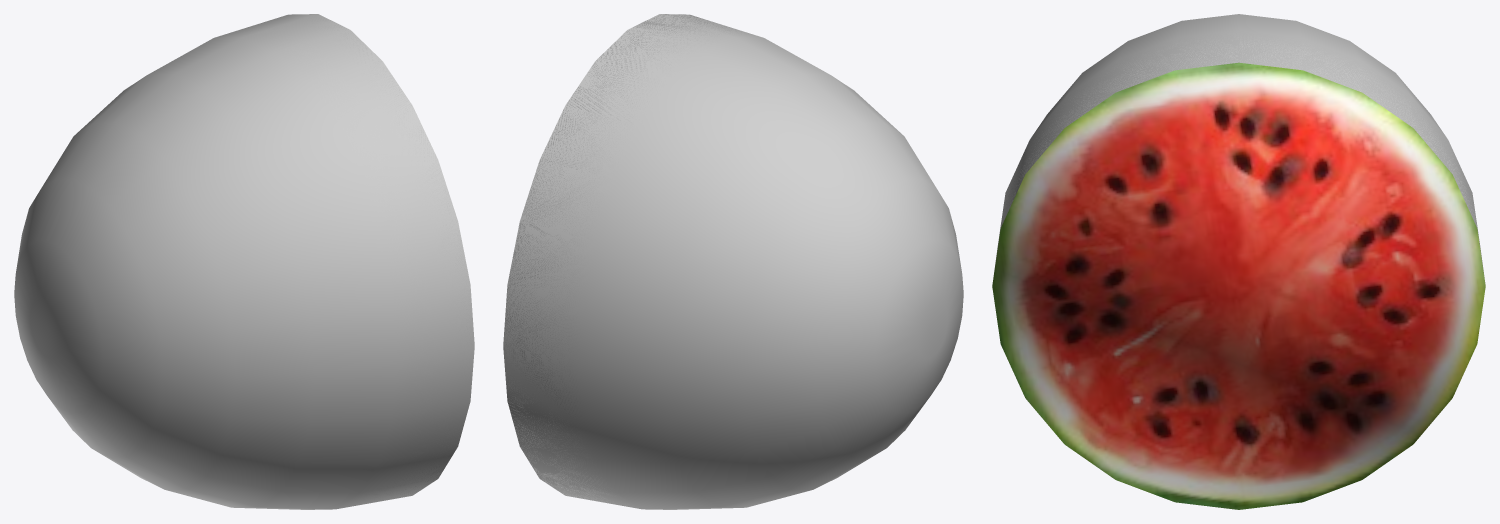
Rendered from MelonCut.fbx.
3 views of the same model, side by side, from view 1: azimuth 30°, elevation 25°; view 2: azimuth 150°, elevation 25°; view 3: azimuth 270°, elevation 25° (orthographic).
Parts seen in each view (by area): view 1: group_0; view 2: group_0; view 3: group_0.
Part boxes in pixels (bbox=[...]): group_0: bbox=[14, 14, 474, 509]; group_0: bbox=[503, 14, 963, 509]; group_0: bbox=[992, 14, 1485, 509].
Bounding box in the file's own units: 36.38 × 51.3 × 51.3.
